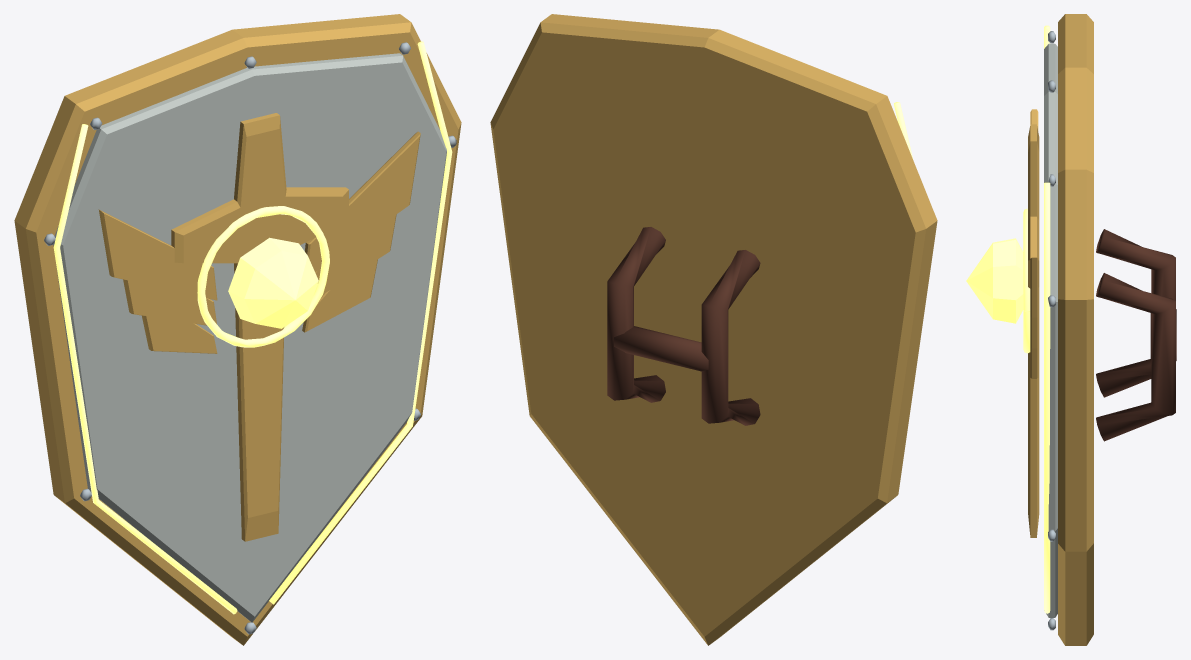
The model's file is wooden-shield-legendary-high.glb.
3 views of the same model, side by side, from view 1: azimuth 30°, elevation 25°; view 2: azimuth 150°, elevation 25°; view 3: azimuth 270°, elevation 25° (orthographic). The views are drawn at different scales.
Visible parts, largest first — view 1: wooden-shield__legendary; view 2: wooden-shield__legendary; view 3: wooden-shield__legendary.
Boxes of the visible parts, x1,y1,x2,y2 form: wooden-shield__legendary: (14,14,461,645); wooden-shield__legendary: (490,14,937,645); wooden-shield__legendary: (966,14,1176,645).
Bounding box in the file's own units: 0.6 × 0.8 × 0.2635.
